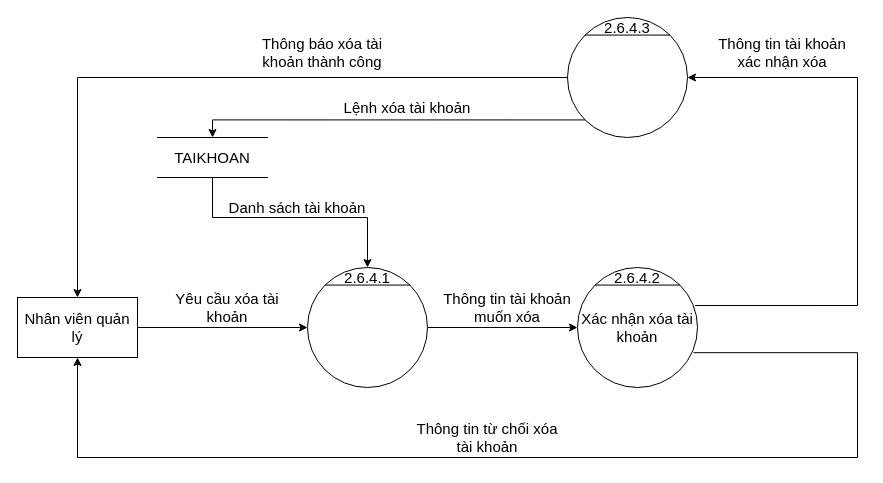
Image size: 883x483. Some labels were removed from this diagram. The box of each missing label's shape, as (x1, y1, x2, y2) in pixels:
Chọn tài khoản muốn xóa: (306, 266, 428, 388)
Xóa tài khoản: (566, 16, 688, 138)
